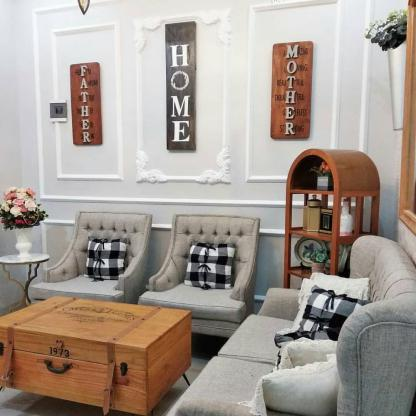bantal: (183, 242, 230, 289), (86, 235, 123, 275)
kursi: (147, 211, 257, 325), (43, 207, 147, 303)
meja: (9, 295, 192, 404)
sova: (262, 256, 416, 415)
tanaman: (3, 187, 44, 256)
